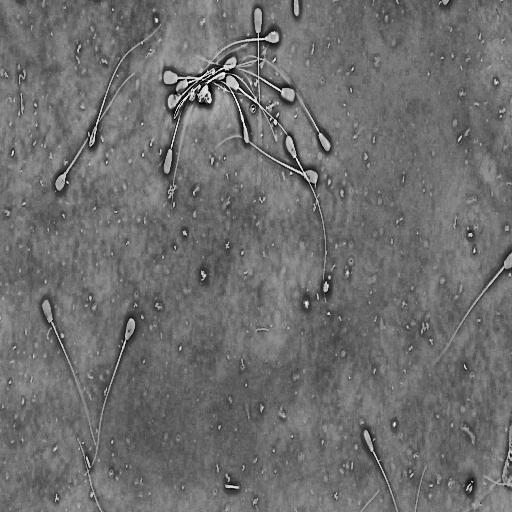dirt-particles: (195, 82, 213, 107), (321, 279, 331, 296)
loose-tail: (73, 431, 106, 512)
normal: (53, 65, 142, 193), (86, 15, 167, 152), (430, 249, 512, 371), (40, 293, 101, 456), (243, 51, 335, 156), (81, 314, 138, 483), (284, 130, 329, 306), (223, 74, 301, 166), (184, 47, 297, 106), (209, 132, 320, 186), (197, 28, 282, 75), (361, 425, 400, 512), (215, 78, 251, 148), (163, 69, 251, 95), (162, 96, 188, 178), (252, 4, 265, 149)
